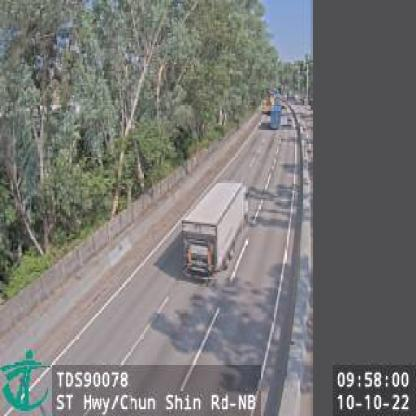Truck: (182, 176, 250, 277), (270, 104, 282, 128)
